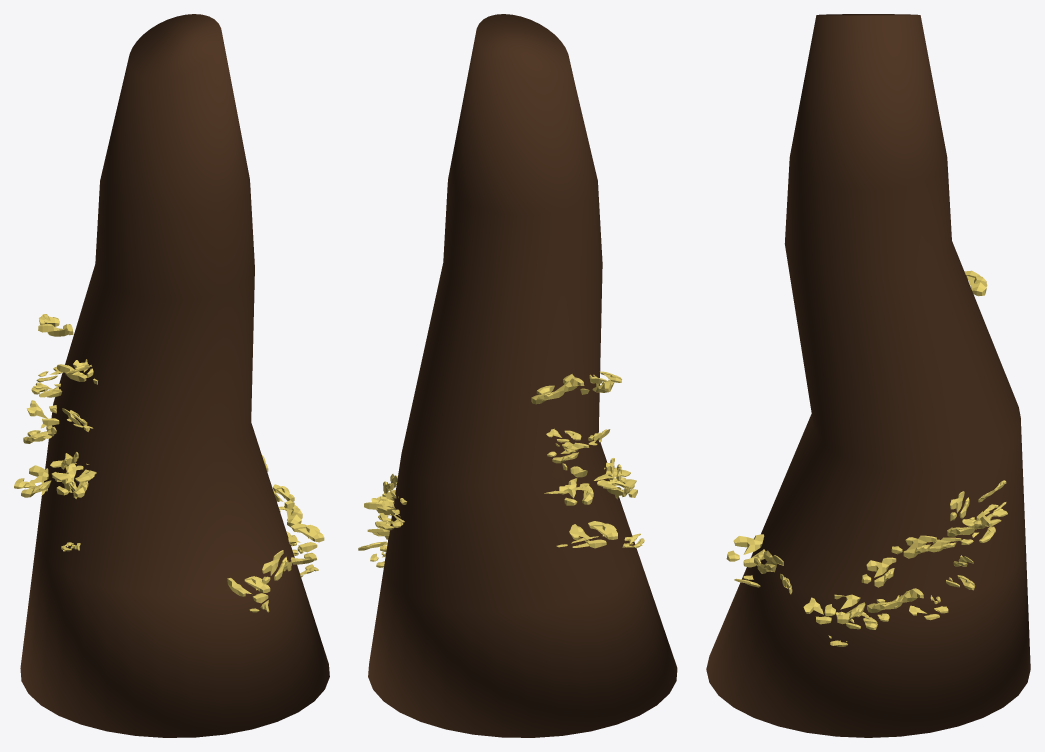
The model's file is FungiGenLowPolyExample.fbx.
3 renders of one model, left to right at view 1: azimuth 30°, elevation 25°; view 2: azimuth 150°, elevation 25°; view 3: azimuth 270°, elevation 25°, orthographic. The views are drawn at different scales.
Visible parts, largest first — view 1: Cylinder, FungiGen; view 2: Cylinder, FungiGen; view 3: Cylinder, FungiGen.
Boxes of the visible parts, x1,y1,x2,y2 form: Cylinder: [20, 14, 329, 737]; FungiGen: [14, 314, 324, 612]; Cylinder: [368, 14, 677, 737]; FungiGen: [358, 371, 644, 567]; Cylinder: [706, 14, 1030, 737]; FungiGen: [726, 270, 1007, 646].
Bounding box in the file's own units: 278 × 633 × 276.
